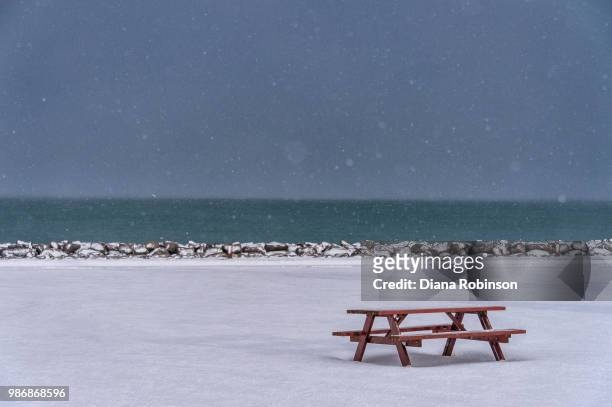obstacle: (332, 306, 525, 365)
